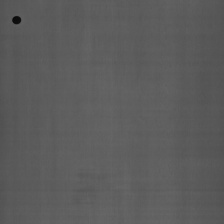punching_hole: (10, 12, 22, 28)
